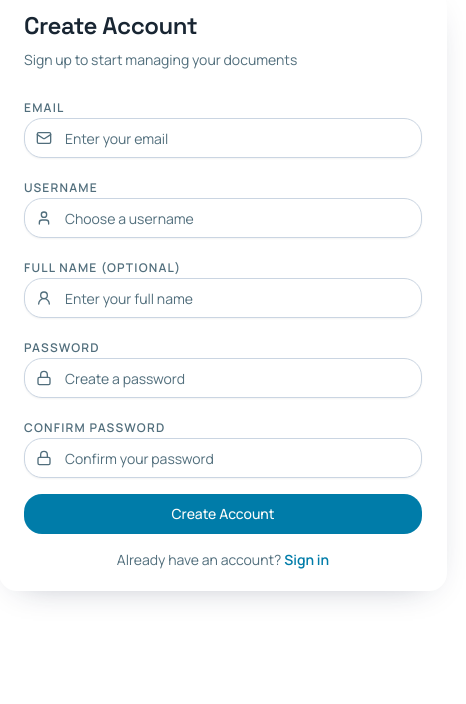
Test: RegisterForm › validates password confirmation match
Type "password123" into the password field labelled "Password" at (223, 378), box [24, 358, 422, 398]
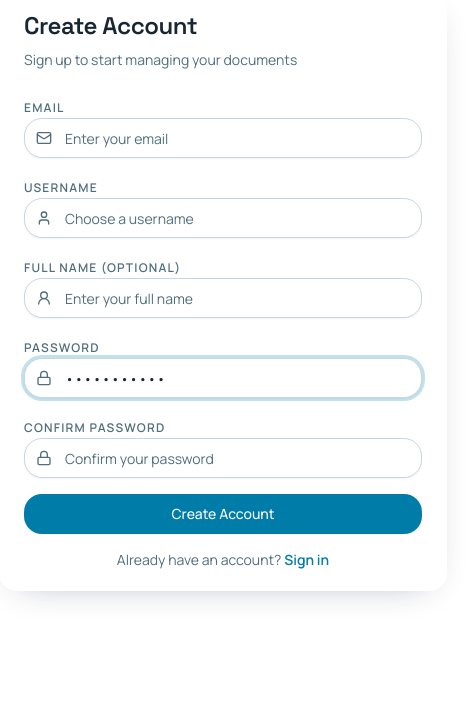
Type "password456" into the password field labelled "Confirm Password" at (223, 458), box [24, 438, 422, 478]
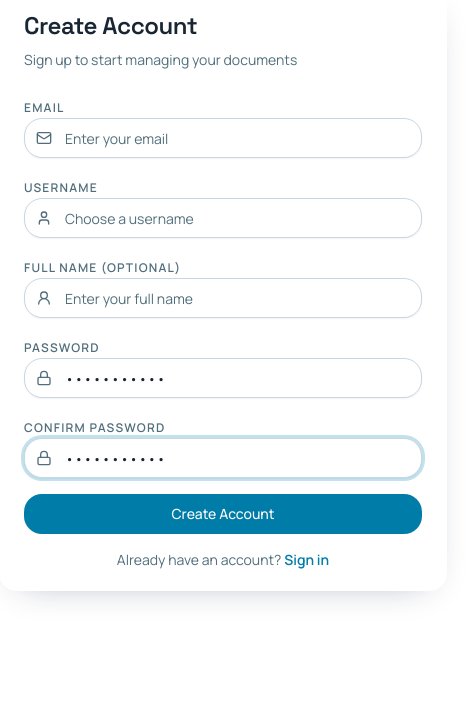
Click the button "Create Account" at (223, 514), box [24, 494, 422, 534]
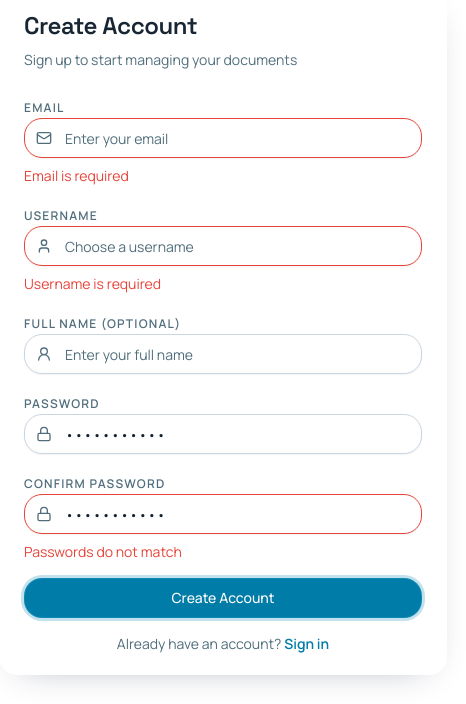
Result: the text "Passwords do not match" is shown at [24, 542, 182, 561]
